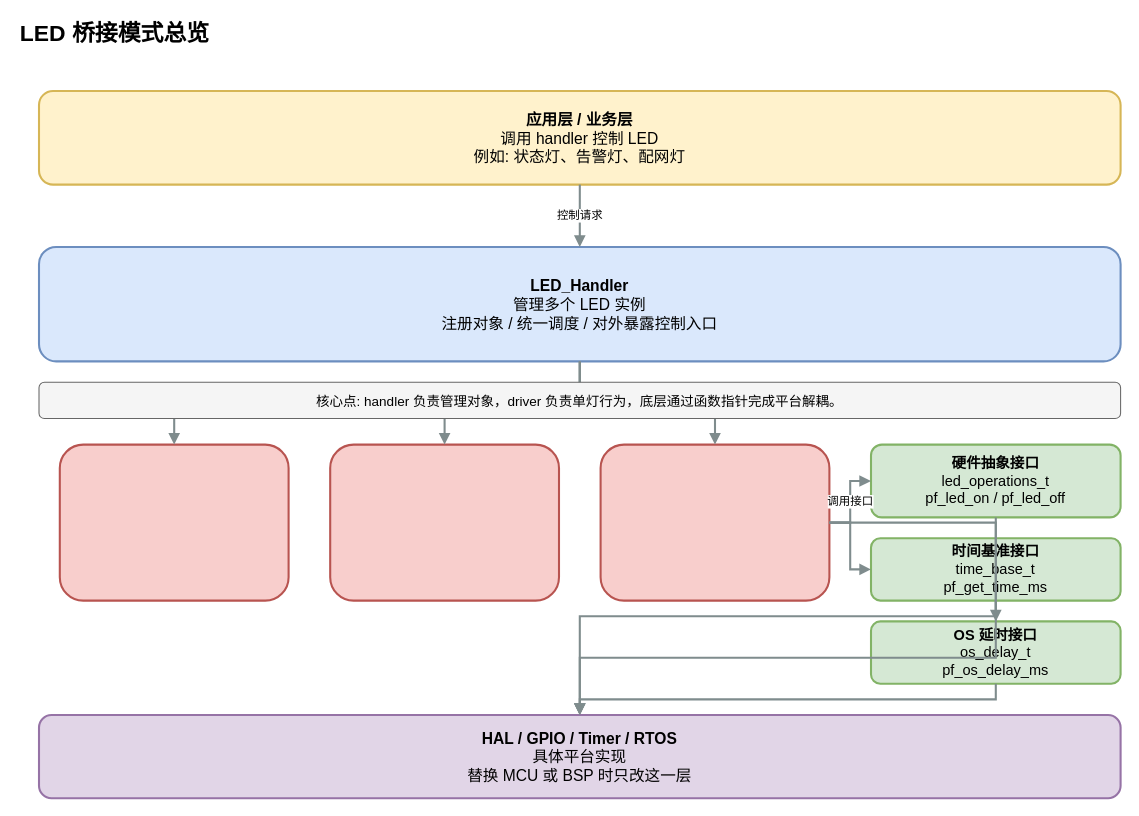
This 1139x816 diagram has some shape labels left out. The shapes that lost their labels are listed below. From the top down, each one's centre as x and y in pixels, then its label:
At point 173,522: "bsp_led_driver_t #1 cycle_time_ms blink_times proportion_on_off pf_led_control".
At point 444,522: "bsp_led_driver_t #2 不同 LED 参数 不同闪烁节奏 共享统一接口".
At point 714,522: "bsp_led_driver_t #N 实例数组 led_instance_group[10] 由 handler 统一管理".
